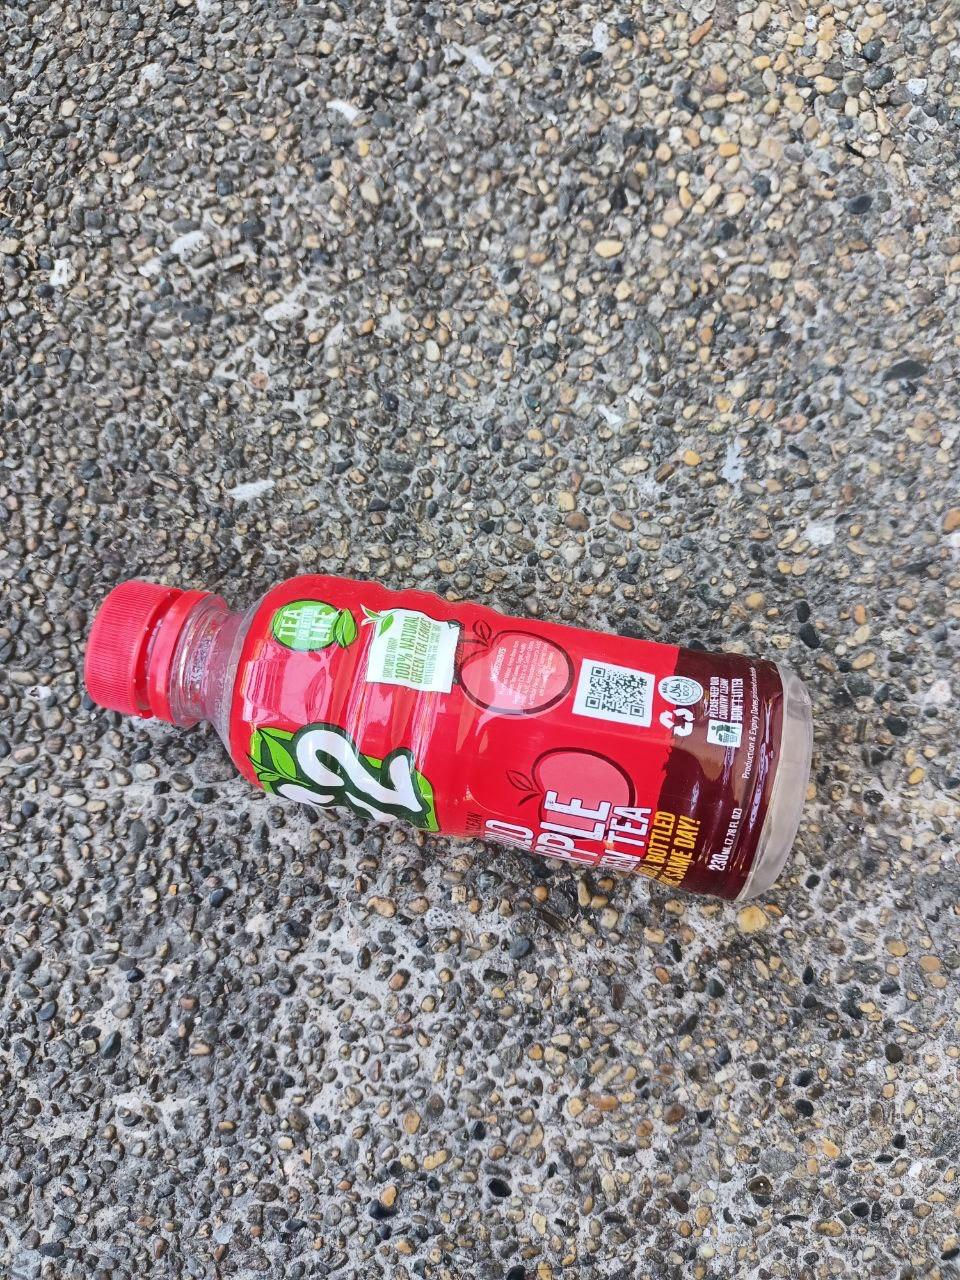plastic: (30, 520, 849, 962)
